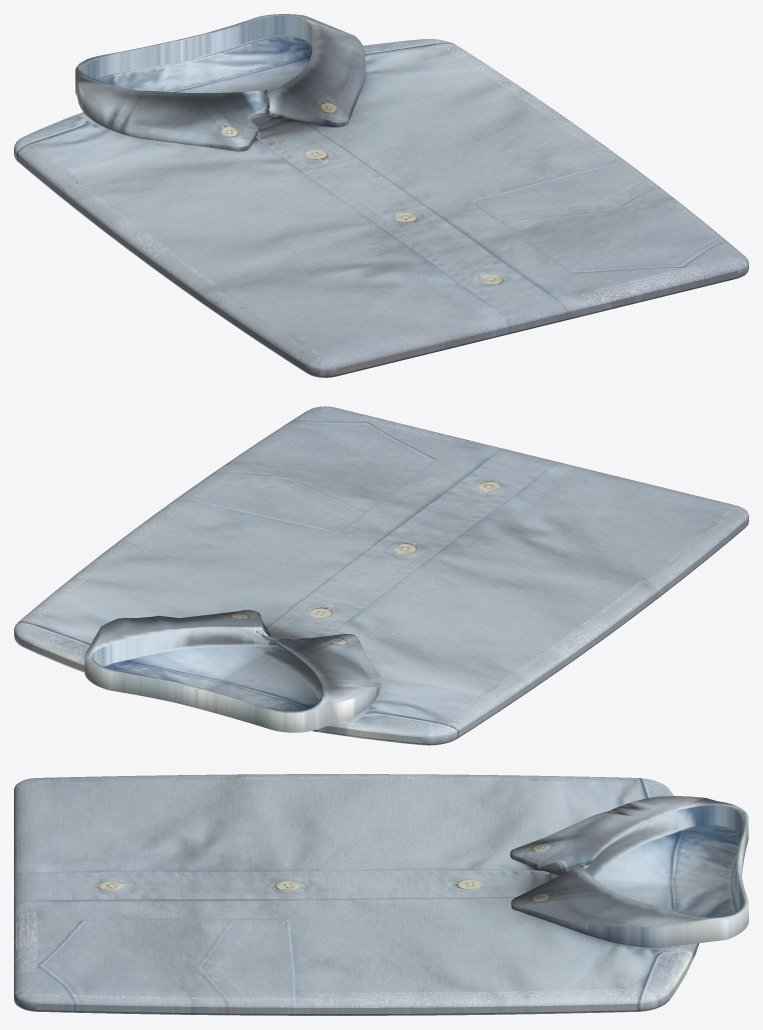
File: fold_shirt.dae
The picture shows the model from 3 angles, top to bottom: view 1: azimuth 30°, elevation 25°; view 2: azimuth 150°, elevation 25°; view 3: azimuth 270°, elevation 25°; orthographic projection. The views are drawn at different scales.
Parts seen in each view (by area): view 1: group_0, group_1; view 2: group_0, group_1; view 3: group_0, group_1.
Part boxes in pixels (x1,y1,x2,y2): group_0: [14, 39, 748, 377]; group_1: [75, 14, 365, 151]; group_0: [14, 406, 748, 745]; group_1: [84, 610, 380, 732]; group_0: [14, 774, 699, 1015]; group_1: [510, 796, 748, 948].
Bounding box in the file's own units: 9.84 × 13.18 × 0.8251.
Materials: 1 (1 with a texture image).
